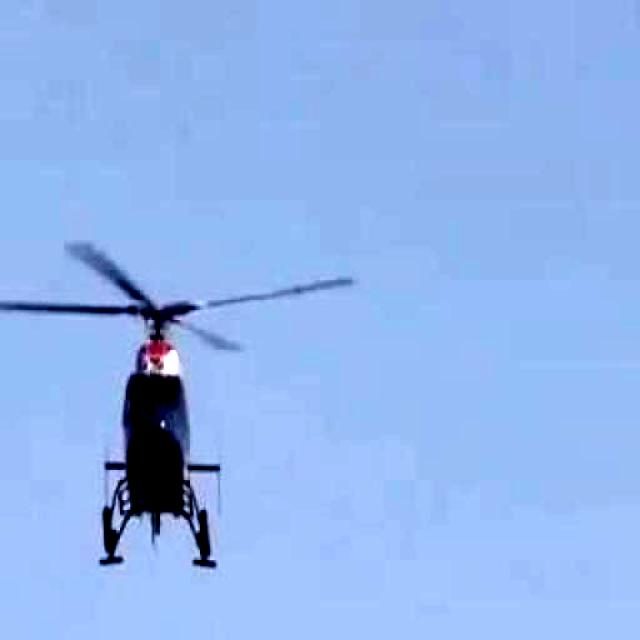drone: (0, 220, 328, 594)
